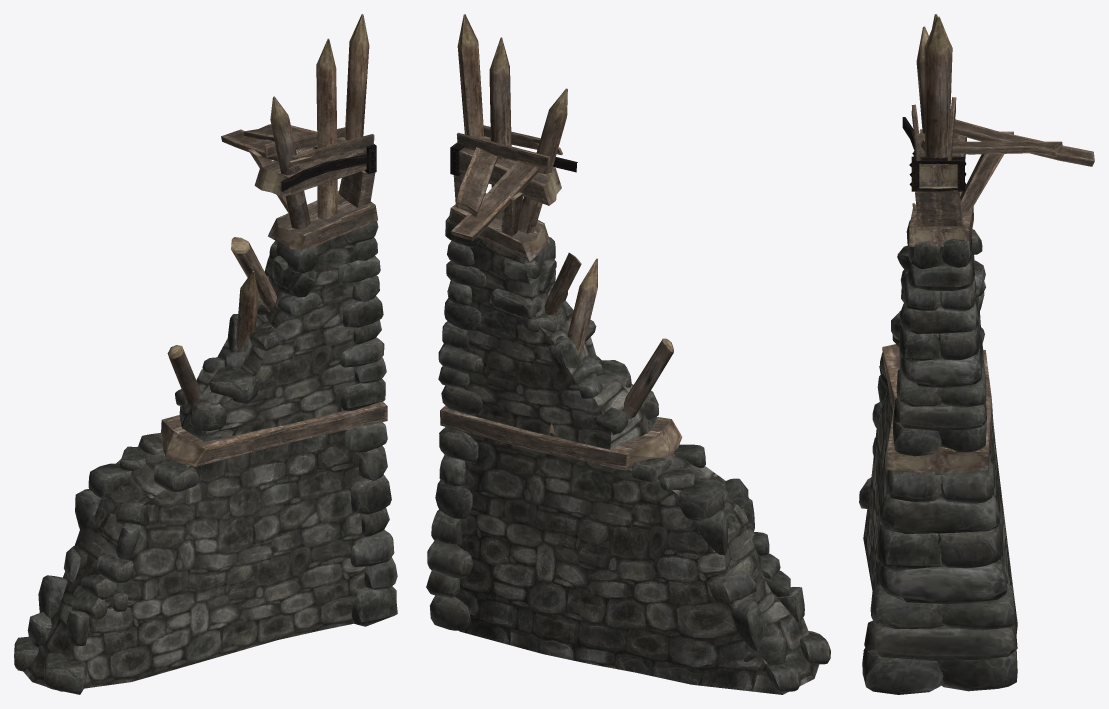
Rendered from jav_struc_def_stone_t2_wall_brkn_b-transformed.glb.
3 renders of one model, left to right at view 1: azimuth 30°, elevation 25°; view 2: azimuth 150°, elevation 25°; view 3: azimuth 270°, elevation 25°, orthographic. The views are drawn at different scales.
Parts seen in each view (by area): view 1: default; view 2: default; view 3: default.
Part boxes in pixels (x1=…): default: x1=14, y1=14, x2=397, y2=694; default: x1=426, y1=14, x2=830, y2=694; default: x1=859, y1=14, x2=1094, y2=694.
Bounding box in the file's own units: 7.17 × 11.48 × 3.63.
3 materials, 3 textured.
